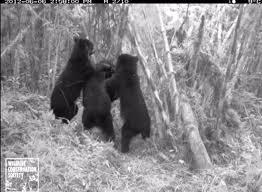bear: (51, 35, 97, 127), (112, 47, 151, 155), (81, 60, 113, 144)
